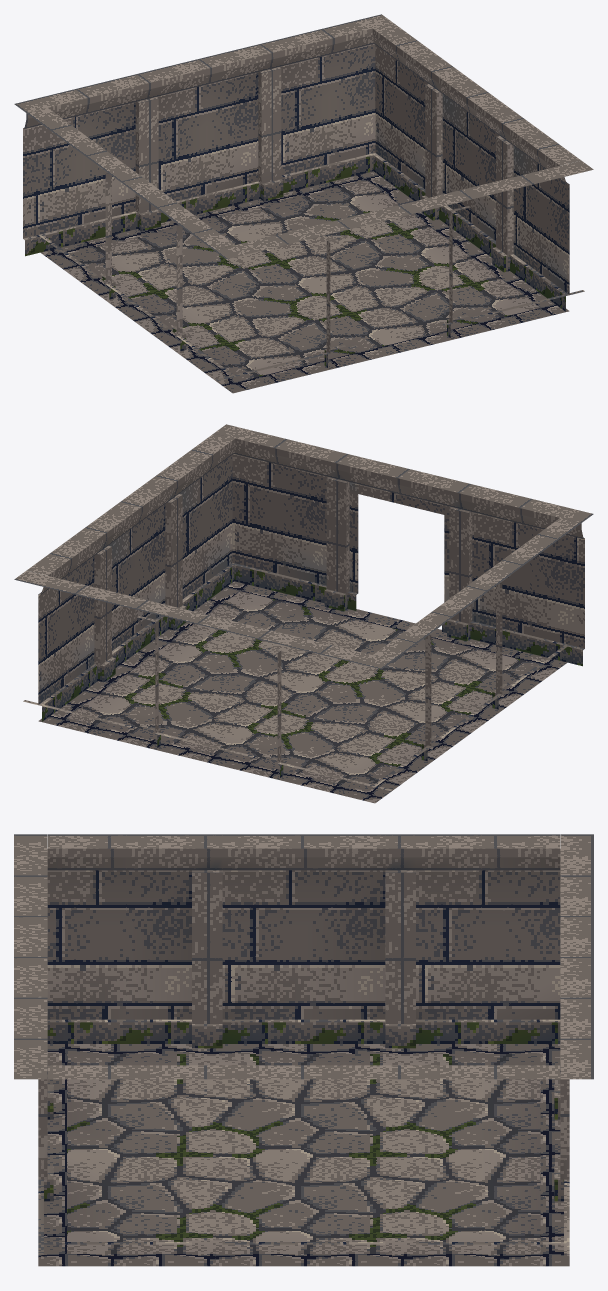
Rendered from dgn.room.glb.
3 views of the same model, one above another, from view 1: azimuth 30°, elevation 25°; view 2: azimuth 150°, elevation 25°; view 3: azimuth 270°, elevation 25° (orthographic). The views are drawn at different scales.
Visible parts, largest first — view 1: kit_shell_walls, kit_shell_floor; view 2: kit_shell_walls, kit_shell_floor; view 3: kit_shell_walls, kit_shell_floor.
Part boxes in pixels (x1,y1,x2,y2): kit_shell_walls: (14, 14, 593, 380); kit_shell_floor: (40, 171, 569, 393); kit_shell_walls: (14, 424, 593, 790); kit_shell_floor: (38, 581, 567, 803); kit_shell_walls: (14, 834, 593, 1254); kit_shell_floor: (38, 1044, 569, 1266).
Size of the model in its own units: 12 by 4.5 by 12.
5 materials, 5 textured.
